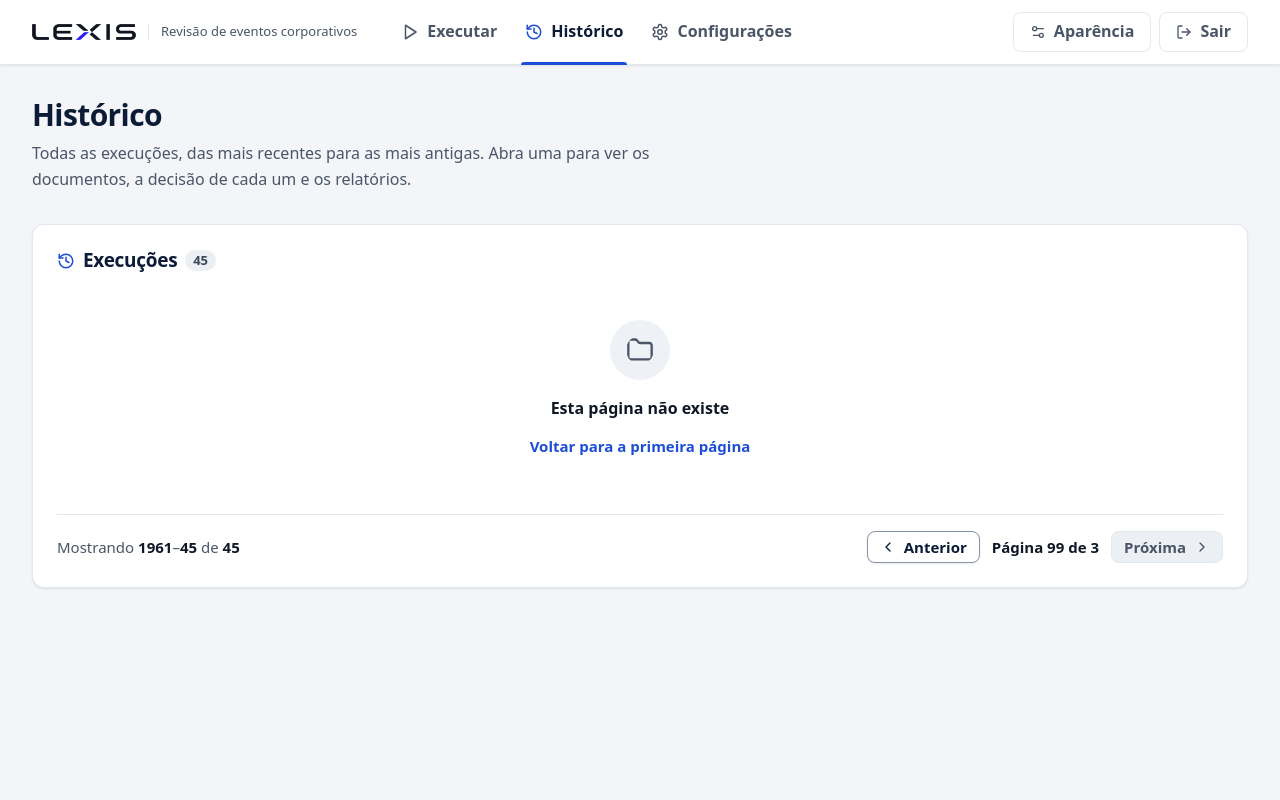
Histórico › página além do fim oferece voltar ao início
Click the button "Voltar para a primeira página" at (640, 446), box [513, 426, 767, 466]
(page scrolled)
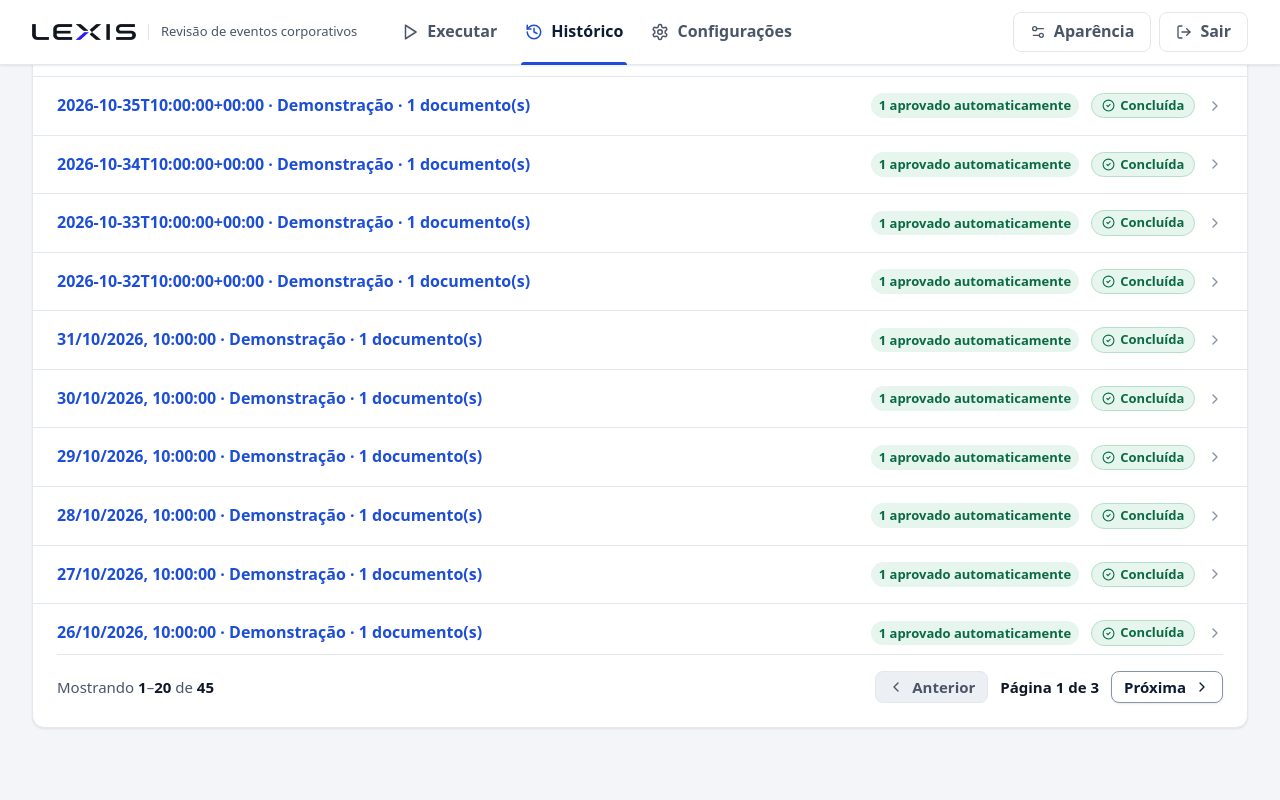
Expected: the text "Página 1 de 3" is shown, [1000, 675, 1099, 699]
